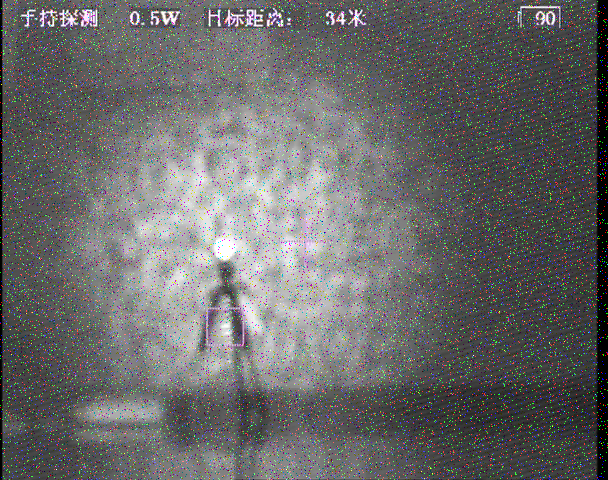my: (212, 236, 238, 262)
